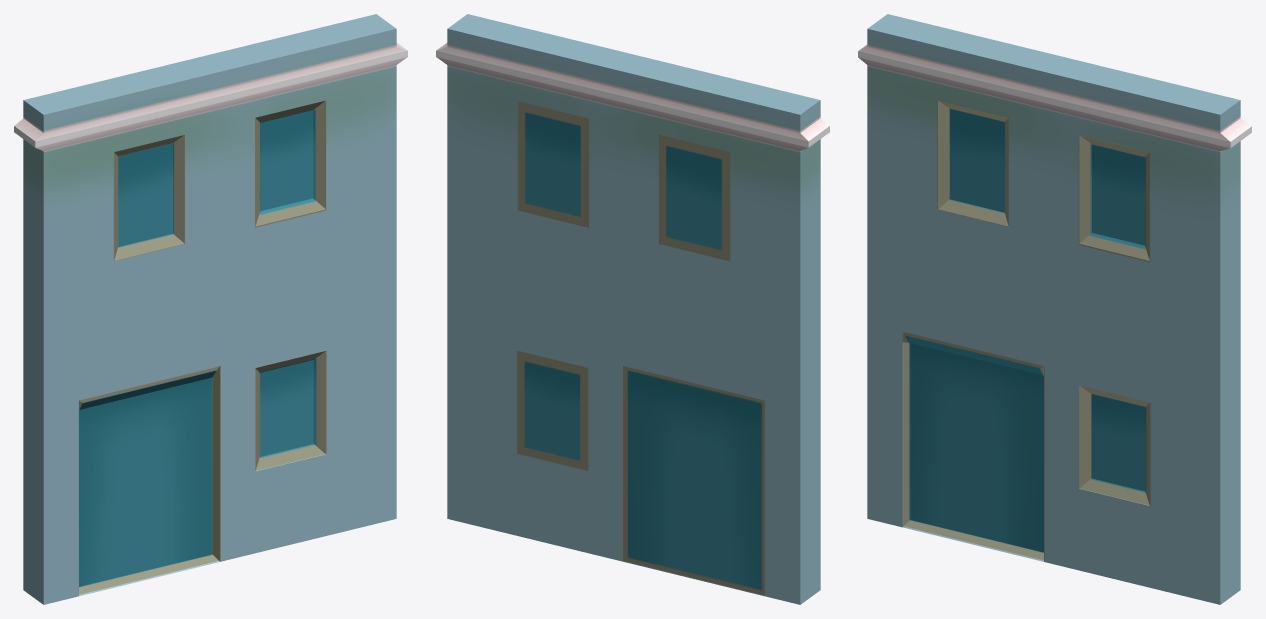
File: sobrado2.fbx
3 views of the same model, side by side, from view 1: azimuth 30°, elevation 25°; view 2: azimuth 150°, elevation 25°; view 3: azimuth 330°, elevation 25° (orthographic).
Parts seen in each view (by area): view 1: Cube.020; view 2: Cube.020; view 3: Cube.020.
Boxes of the visible parts, box(x1,y1,x2,y2) form: Cube.020: box(14, 14, 407, 604); Cube.020: box(436, 14, 829, 604); Cube.020: box(858, 14, 1251, 604).
Size of the model in its own units: 211 by 265 by 20.9.
Materials: 1 (1 with a texture image).
